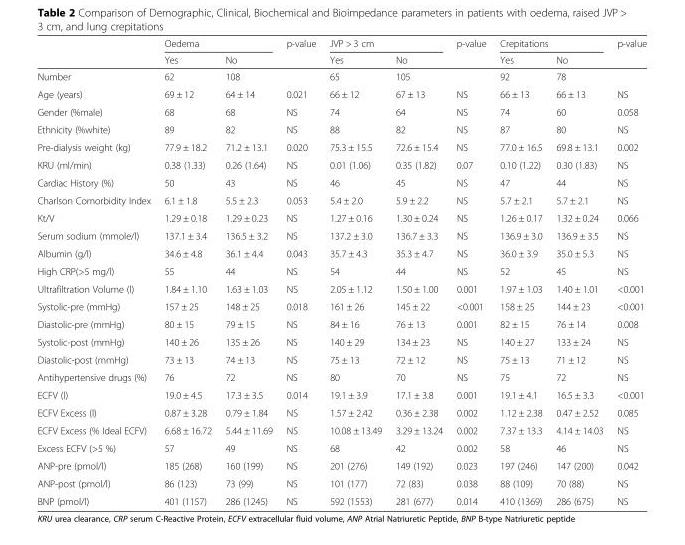table: (36, 37, 646, 506)
table column: (36, 37, 156, 506), (322, 37, 388, 506), (156, 37, 217, 506), (217, 37, 278, 506), (388, 37, 449, 506), (548, 37, 609, 506), (492, 37, 548, 506), (278, 37, 322, 506), (449, 37, 492, 506), (609, 37, 646, 506)
table column header: (36, 37, 646, 67)
table row: (36, 84, 646, 102), (36, 102, 646, 120), (36, 120, 646, 138), (36, 155, 646, 173), (36, 173, 646, 191), (36, 208, 646, 226), (36, 226, 646, 244), (36, 261, 646, 279), (36, 279, 646, 297), (36, 297, 646, 315), (36, 332, 646, 350), (36, 350, 646, 368), (36, 385, 646, 403), (36, 403, 646, 421), (36, 438, 646, 456), (36, 456, 646, 474), (36, 474, 646, 492), (36, 67, 646, 84), (36, 138, 646, 155), (36, 191, 646, 208), (36, 244, 646, 261), (36, 315, 646, 332), (36, 368, 646, 385), (36, 421, 646, 438), (36, 51, 646, 67), (36, 37, 646, 51), (36, 492, 646, 506)
table spanning cell: (322, 37, 449, 51), (156, 37, 278, 51), (492, 37, 609, 51), (278, 37, 322, 67), (449, 37, 492, 67), (609, 37, 646, 67)
